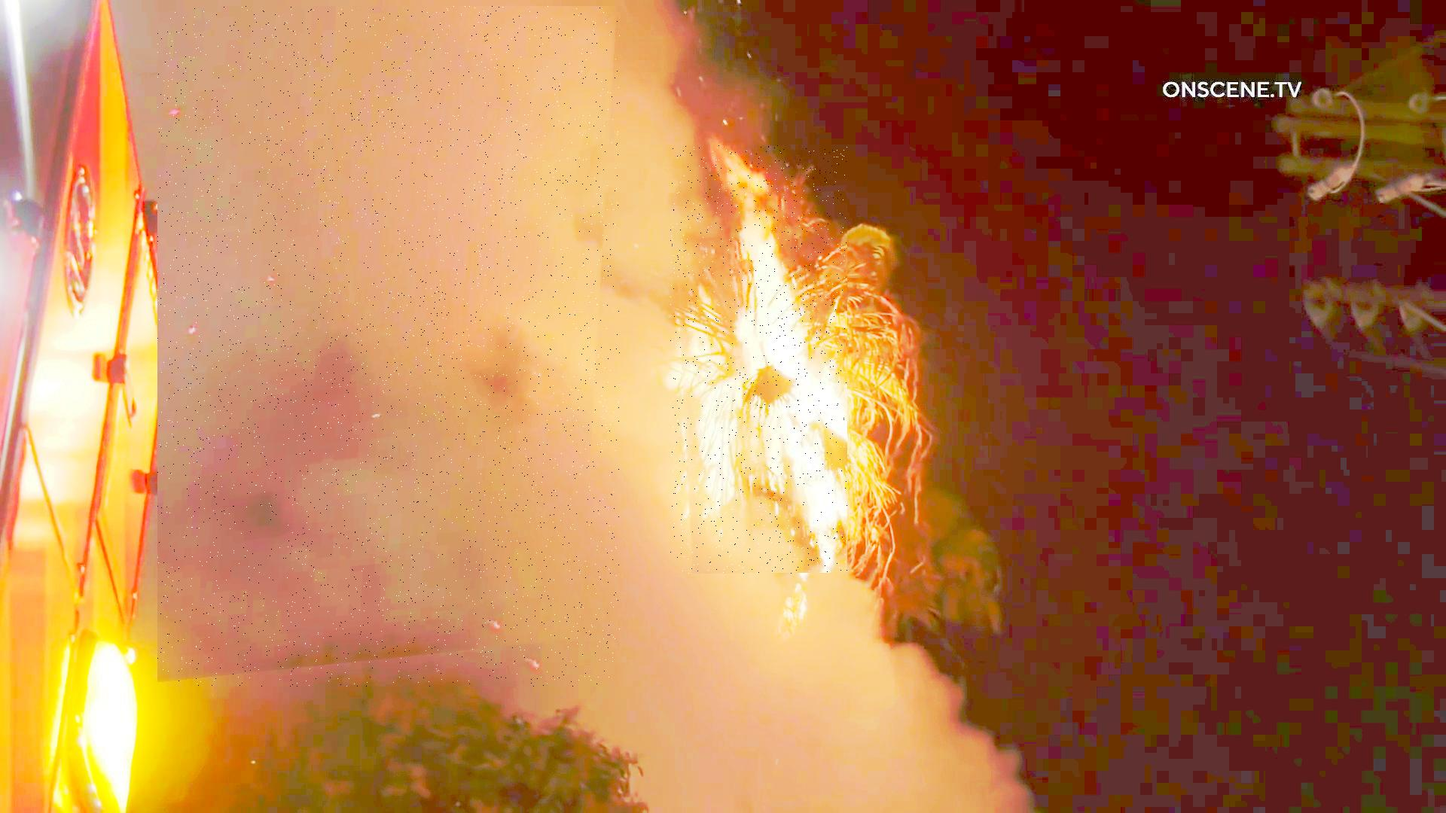fire: (670, 145, 847, 574)
smoke: (158, 6, 620, 687)
